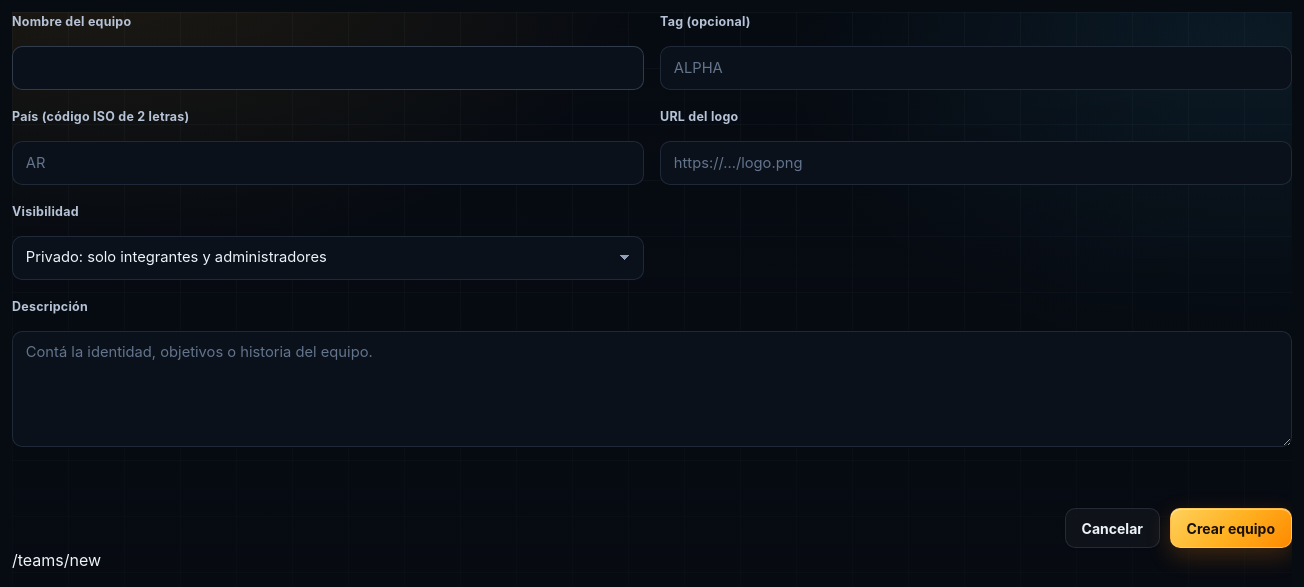
TeamForm › creates a team with normalized values
Type " Alpha Wolves " into the field labelled "Nombre del equipo".
click(328, 68); type(" Alpha Wolves ")  # box [12,46,644,90]
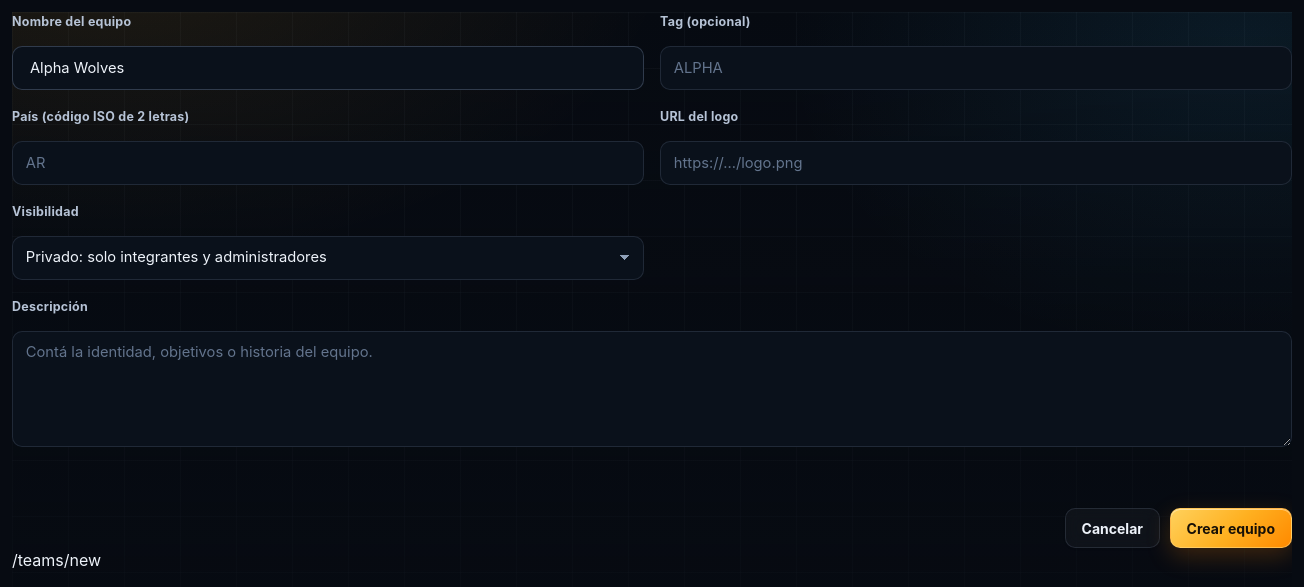
Type " aw " into the field labelled "Tag (opcional)".
click(976, 68); type(" aw ")  # box [660,46,1292,90]
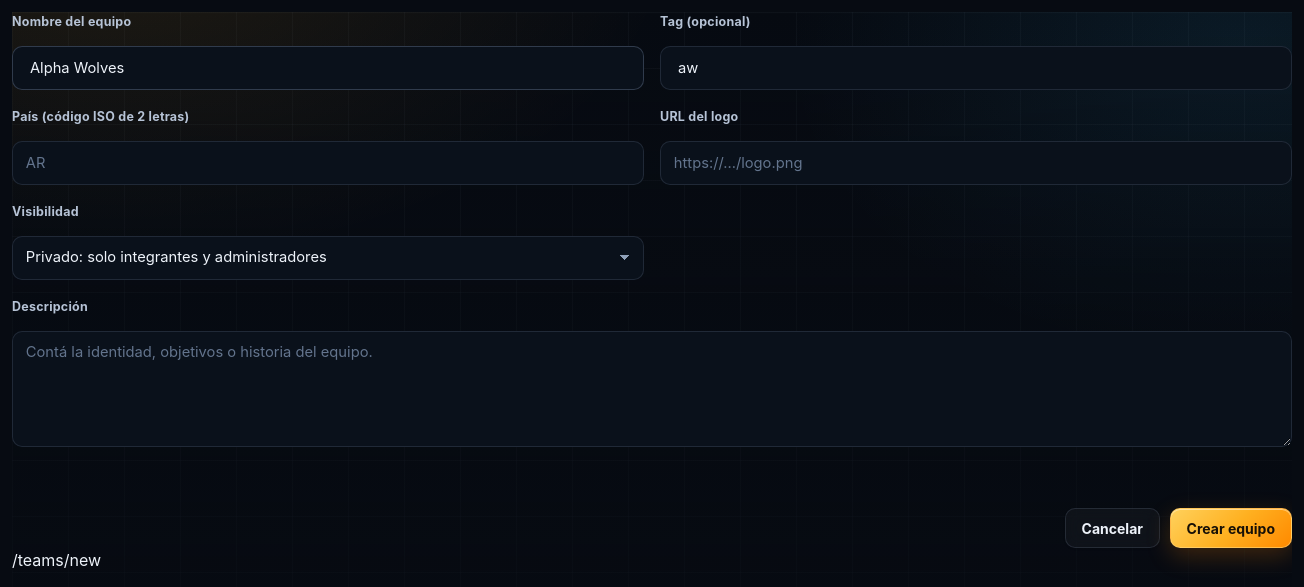
Type " ar " into the field labelled "País (código ISO de 2 letras)".
click(328, 163); type(" ar ")  # box [12,141,644,185]
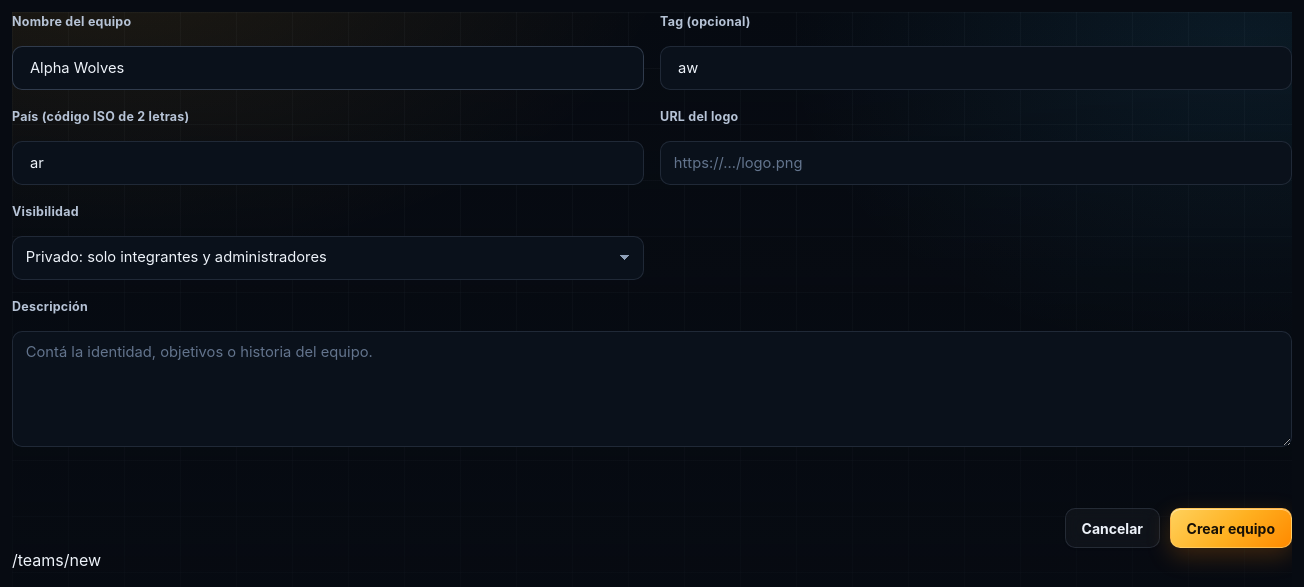
Select "Público: aparece en el directorio" in the dropdown labelled "Visibilidad" at point(328, 258), box [12,236,644,280]
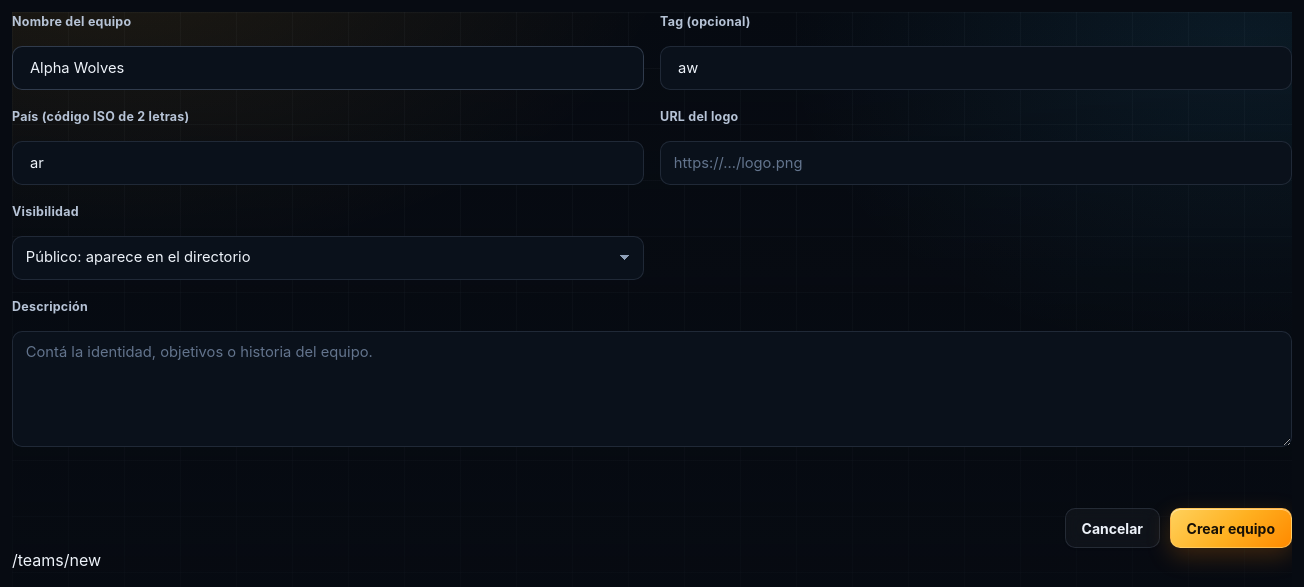
Click the button "Crear equipo".
click(1231, 528)  # box [1170,508,1292,548]
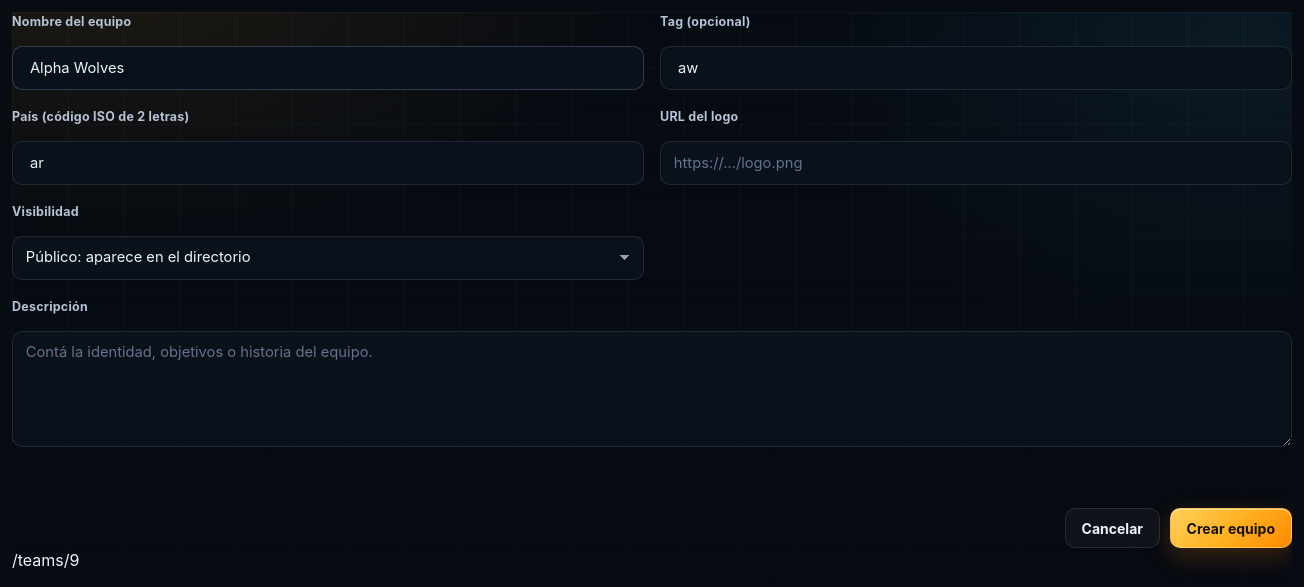
Result: the text with test id "location" reads "/teams/9" at [12,550,80,570]
